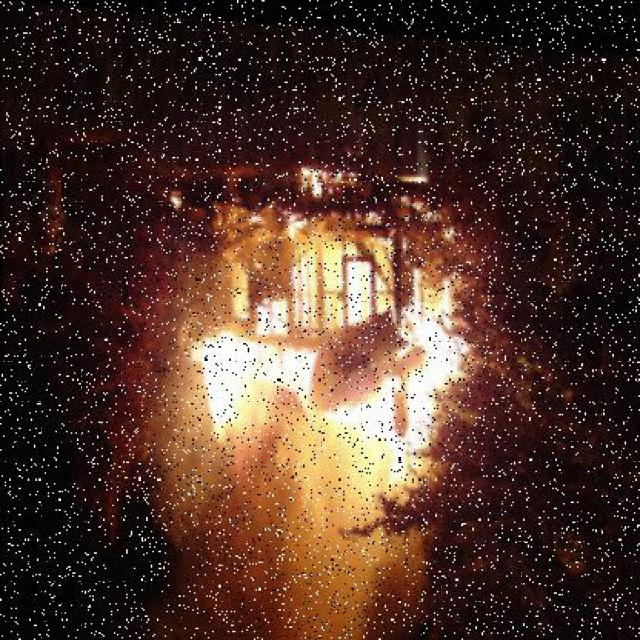fire: (186, 176, 468, 464)
